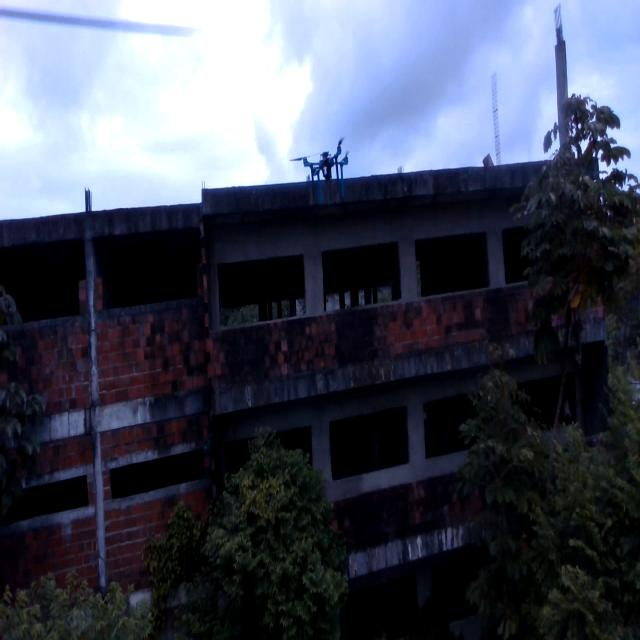-uav-: (284, 130, 358, 210)
